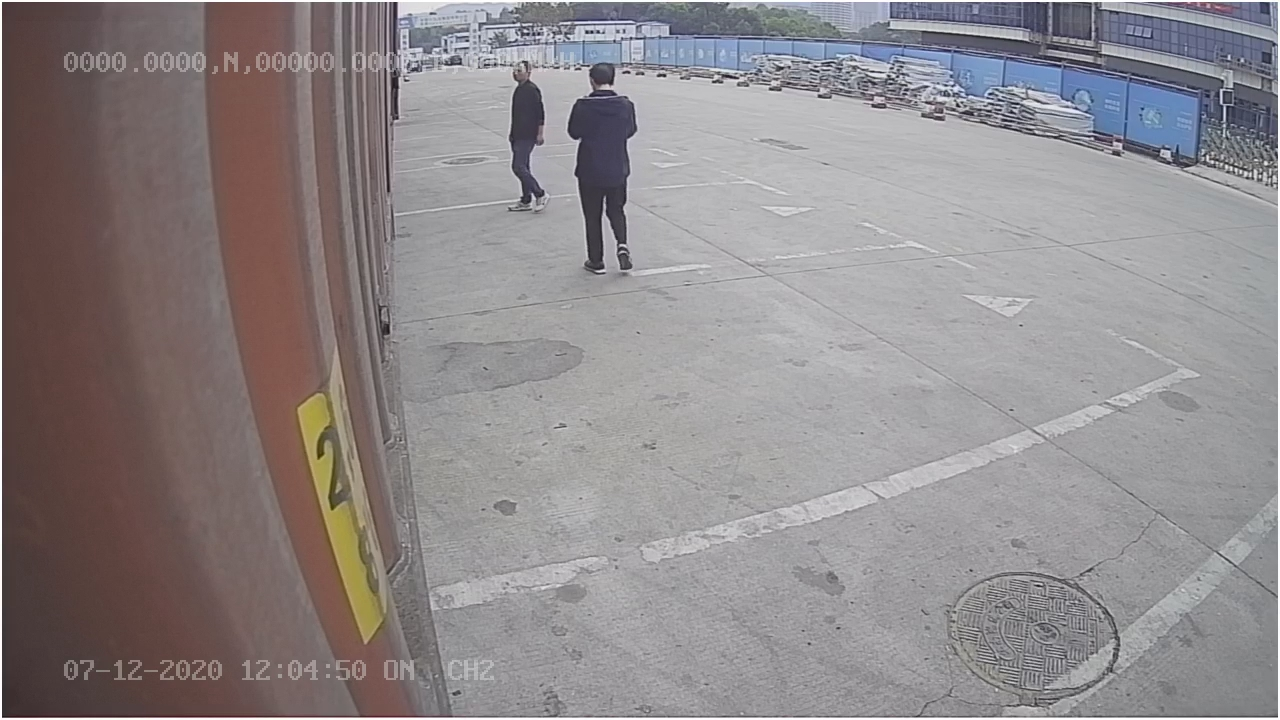person: (566, 56, 641, 274)
